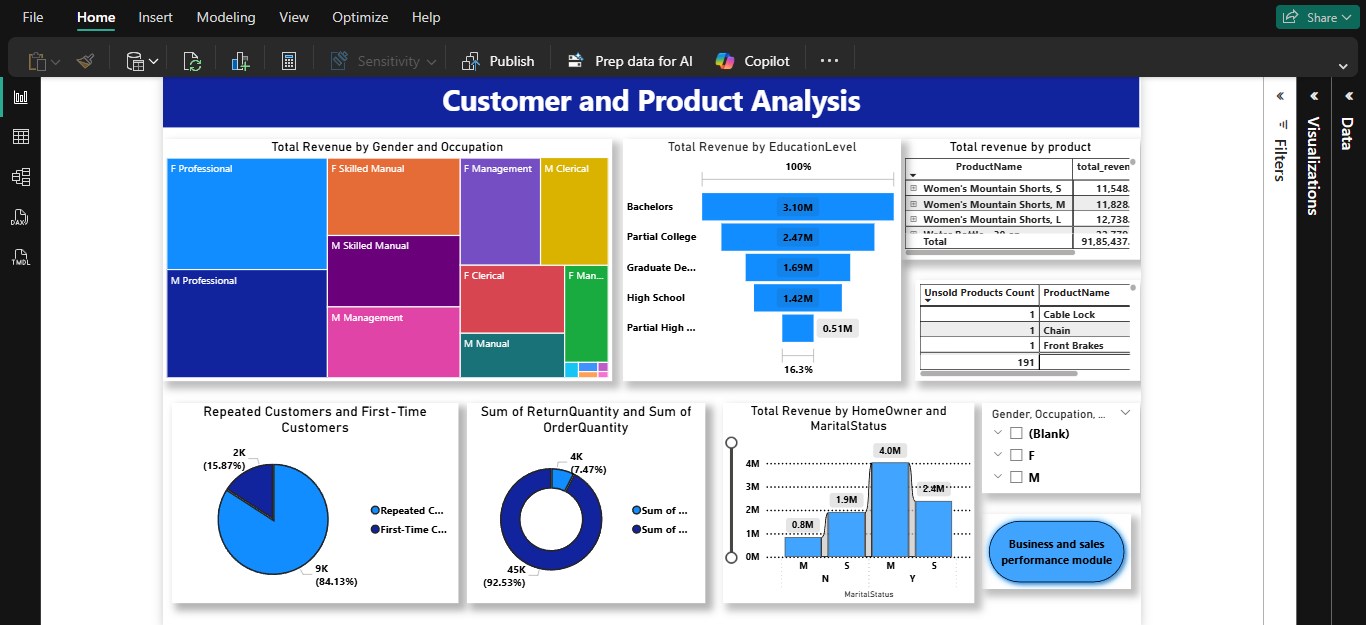

Layout of this report page (visuals, bound fields, positions):
{"tool":"powerbi","page":{"name":"Page 2","canvas":[1280,720],"ordinal":1},"visuals":[{"type":"actionButton","box":[0,0,100,40],"z":0},{"type":"treemap","title":"Total Revenue by Gender and Occupation","fields":{"Group":["customers.Gender","customers.Occupation"],"Values":["sales.total_revenue"]},"box":[0,80.8,587.8,317.4],"z":1000},{"type":"pieChart","fields":{"Y":["sales.Repeated Customers","sales.First-Time Customers"]},"box":[11.8,426.1,374.7,261.6],"z":2000},{"type":"tableEx","fields":{"Values":["products.Unsold Products Count","products.ProductName"]},"box":[984.5,266,295.3,132.2],"z":3000},{"type":"columnChart","title":"Total Revenue by HomeOwner and MaritalStatus","fields":{"Category":["customers.HomeOwner","customers.MaritalStatus"],"Y":["sales.total_revenue"]},"box":[733.2,426.1,329.1,261.6],"z":4000},{"type":"donutChart","fields":{"Y":["Sum(returns.ReturnQuantity)","Sum(sales.OrderQuantity)"]},"box":[398.2,426.1,311.5,261.6],"z":5000},{"type":"pivotTable","title":"Total revenue by product","fields":{"Rows":["products.ProductName","products.ProductCost"],"Values":["sales.total_revenue"]},"box":[984.5,80.8,295.3,158.7],"z":6000},{"type":"textbox","box":[0,0,1278.4,66.1],"z":7000},{"type":"funnel","title":"Total Revenue by EducationLevel","fields":{"Category":["customers.EducationLevel"],"Y":["sales.total_revenue"]},"box":[602.4,80.8,364.4,317.4],"z":8000},{"type":"slicer","fields":{"Values":["customers.Gender","customers.Occupation","customers.EducationLevel","customers.AnnualIncome"]},"box":[1072.7,426.1,207.2,117.6],"z":8001},{"type":"shape","box":[1072.7,571.6,195.4,98.4],"z":8002}]}

Visuals, with their boxes on the page's 1280x720 design canvas (x1, y1, x2, y2). These are canvas units, not pixel positions in the 1366x625 screenshot, which may show the page scaled, cropped or inside an application window:
actionButton: [x1=0, y1=0, x2=100, y2=40]
"Total Revenue by Gender and Occupation" treemap: [x1=0, y1=81, x2=588, y2=398]
pieChart - sales.Repeated Customers x sales.First-Time Customers: [x1=12, y1=426, x2=386, y2=688]
tableEx - products.Unsold Products Count x products.ProductName: [x1=984, y1=266, x2=1280, y2=398]
"Total Revenue by HomeOwner and MaritalStatus" columnChart: [x1=733, y1=426, x2=1062, y2=688]
donutChart - Sum(returns.ReturnQuantity) x Sum(sales.OrderQuantity): [x1=398, y1=426, x2=710, y2=688]
"Total revenue by product" pivotTable: [x1=984, y1=81, x2=1280, y2=240]
textbox: [x1=0, y1=0, x2=1278, y2=66]
"Total Revenue by EducationLevel" funnel: [x1=602, y1=81, x2=967, y2=398]
slicer - customers.Gender x customers.Occupation: [x1=1073, y1=426, x2=1280, y2=544]
shape: [x1=1073, y1=572, x2=1268, y2=670]
